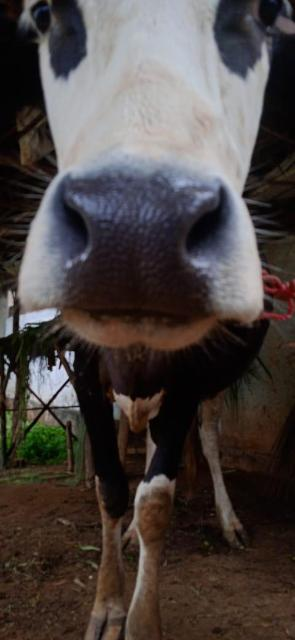Muzzle: (57, 173, 203, 317)
